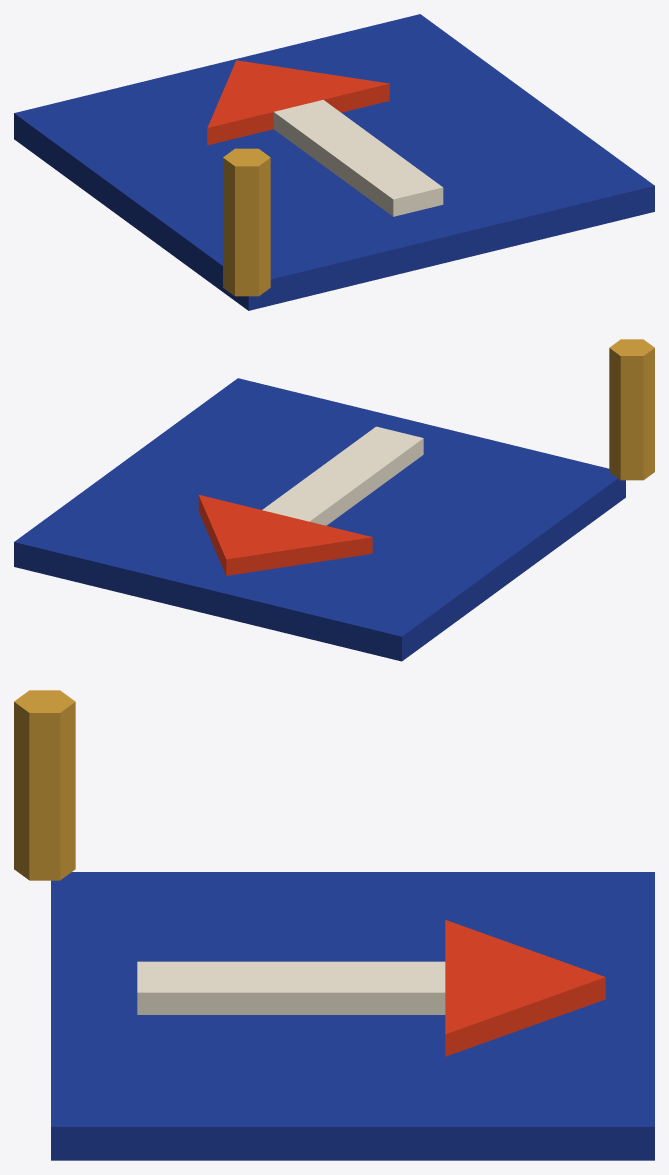
The model's file is calibration_tile.glb.
3 renders of one model, top to bottom at view 1: azimuth 30°, elevation 25°; view 2: azimuth 150°, elevation 25°; view 3: azimuth 270°, elevation 25°, orthographic. The views are drawn at different scales.
Visible parts, largest first — view 1: calibration_tile_slab; view 2: calibration_tile_slab; view 3: calibration_tile_slab.
Part boxes in pixels (box(x1,y1,x2,y2)): calibration_tile_slab: box(14, 14, 654, 310); calibration_tile_slab: box(14, 339, 654, 661); calibration_tile_slab: box(14, 690, 654, 1160).
Size of the model in its own units: 1.03 by 0.36 by 1.04.
